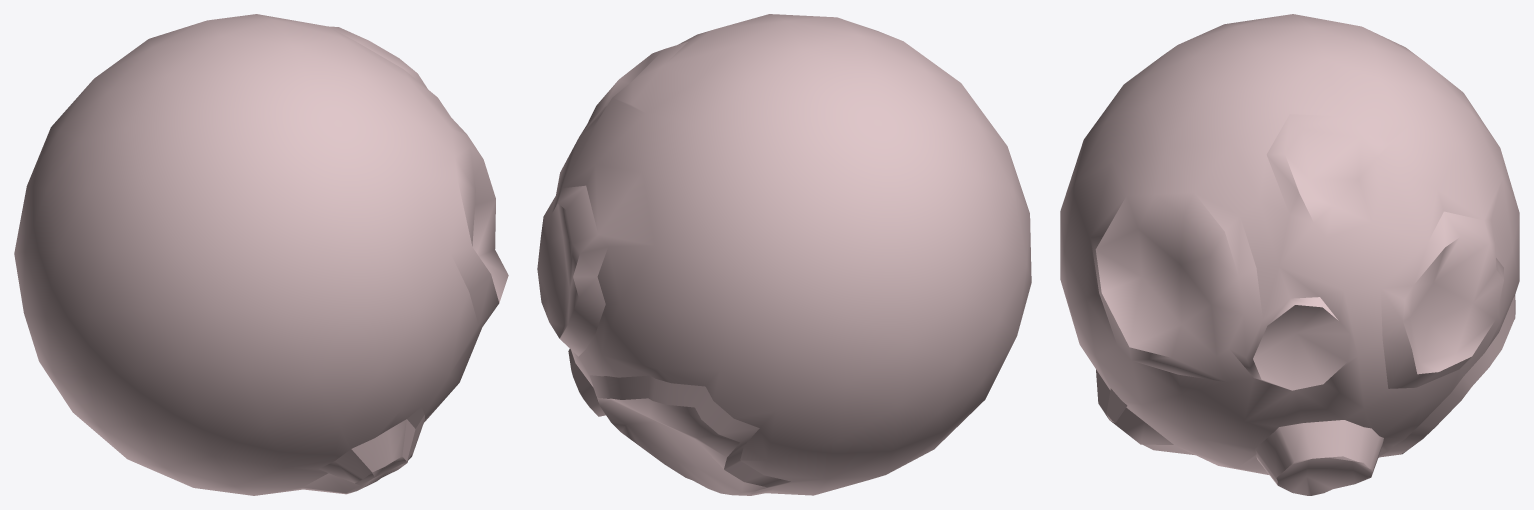
Rendered from moon.8c4a4ca6.glb.
The picture shows the model from 3 angles, left to right: view 1: azimuth 30°, elevation 25°; view 2: azimuth 150°, elevation 25°; view 3: azimuth 270°, elevation 25°; orthographic projection. The views are drawn at different scales.
Visible parts, largest first — view 1: Icosphere; view 2: Icosphere; view 3: Icosphere.
Boxes of the visible parts, x1,y1,x2,y2 form: Icosphere: (14, 14, 508, 495); Icosphere: (537, 14, 1031, 495); Icosphere: (1060, 14, 1519, 495).
Size of the model in its own units: 4.01 by 3.96 by 3.96.
